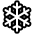EISSTERN: (1, 1, 32, 33)
